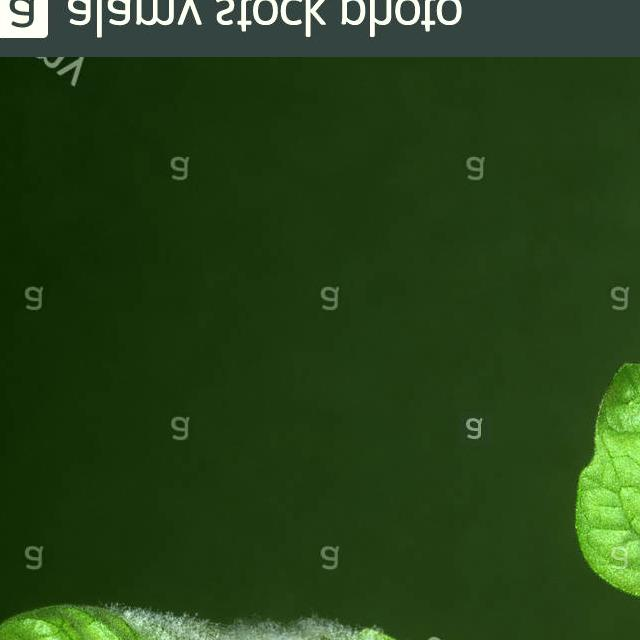Tomato leaf late blight: (575, 74, 640, 640), (0, 596, 640, 640)
